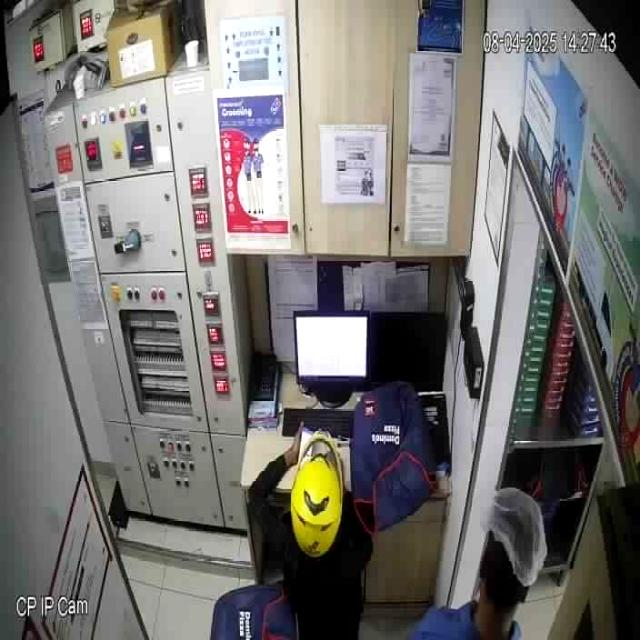helmet: (289, 433, 345, 558)
no_helmet: (474, 486, 547, 635)
